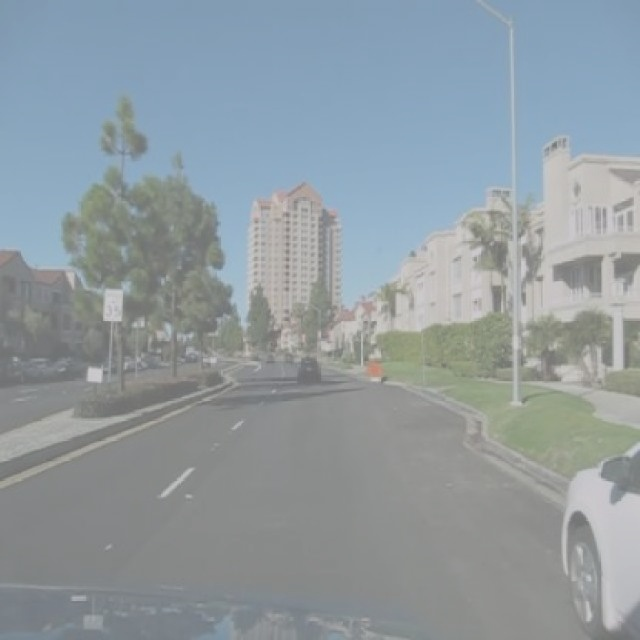speedLimit35: (103, 288, 123, 320)
